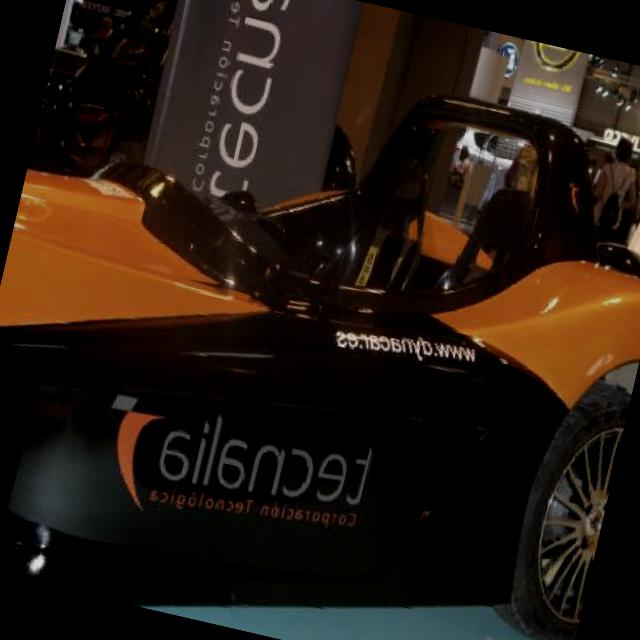Person: (581, 132, 640, 245), (496, 130, 553, 216), (444, 140, 478, 193)
